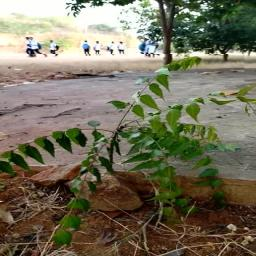Azadiractha Indica: (0, 54, 245, 242)
